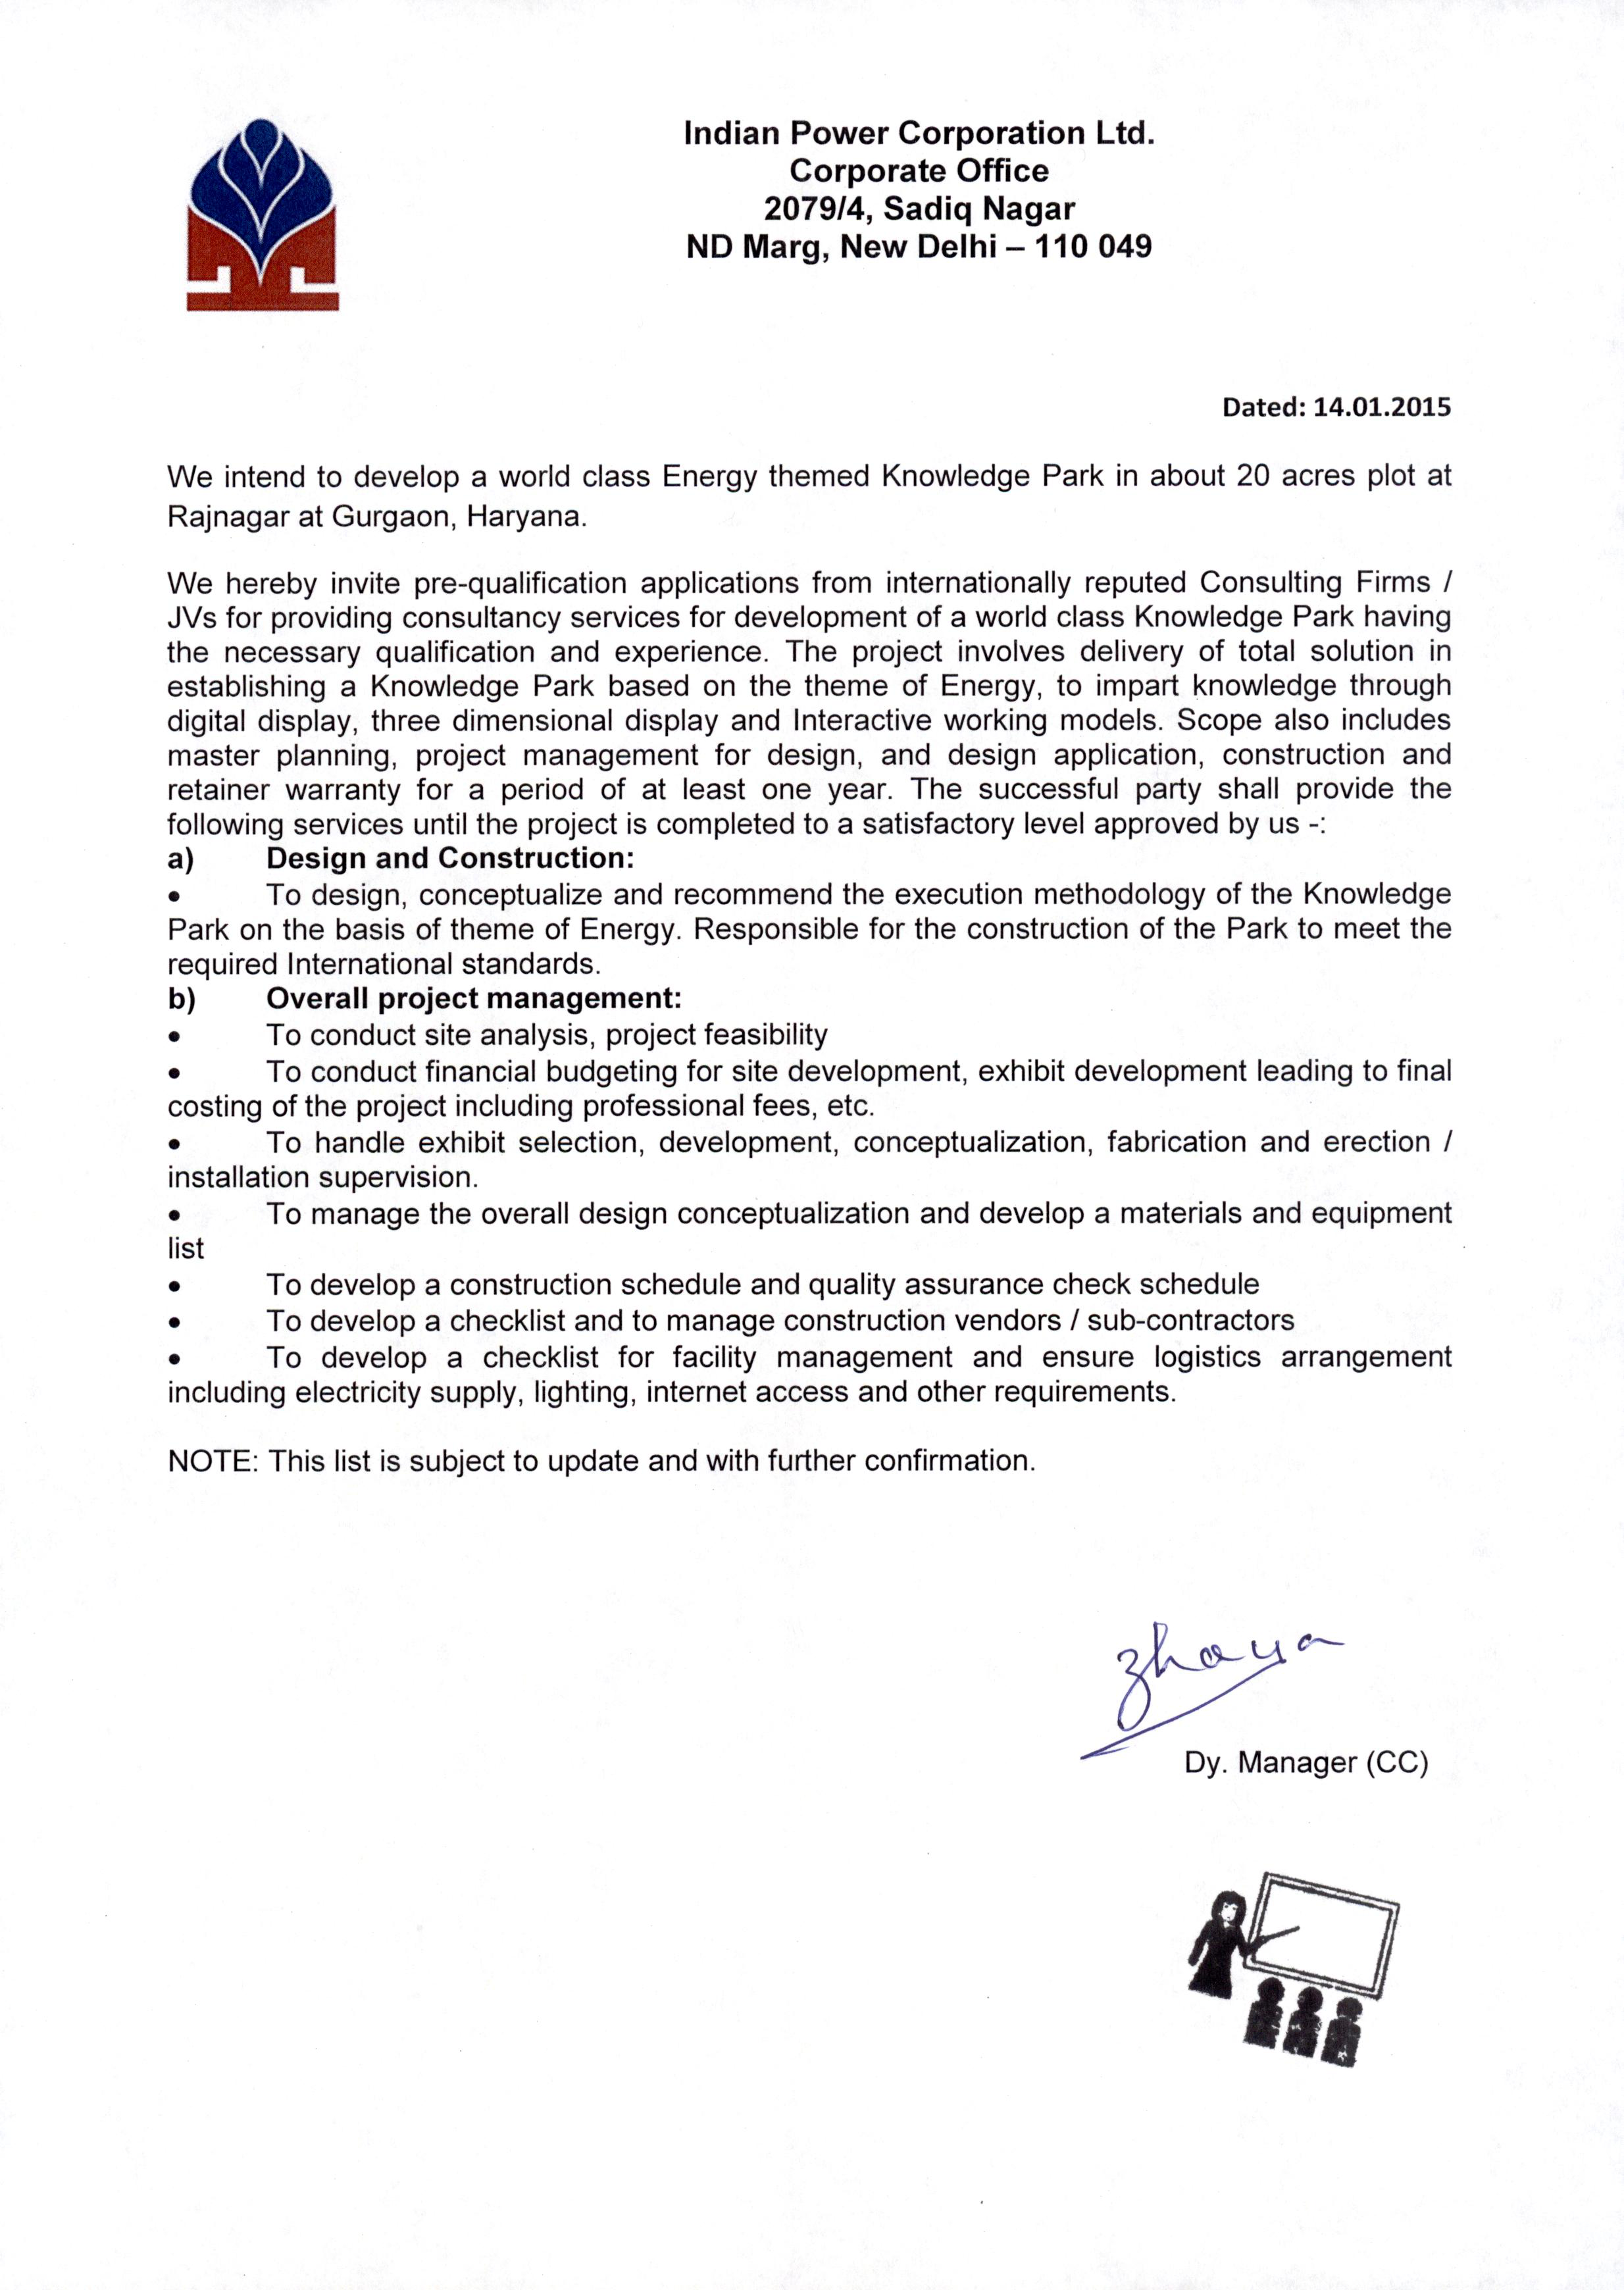Signature: (1079, 1613, 1352, 1747)
